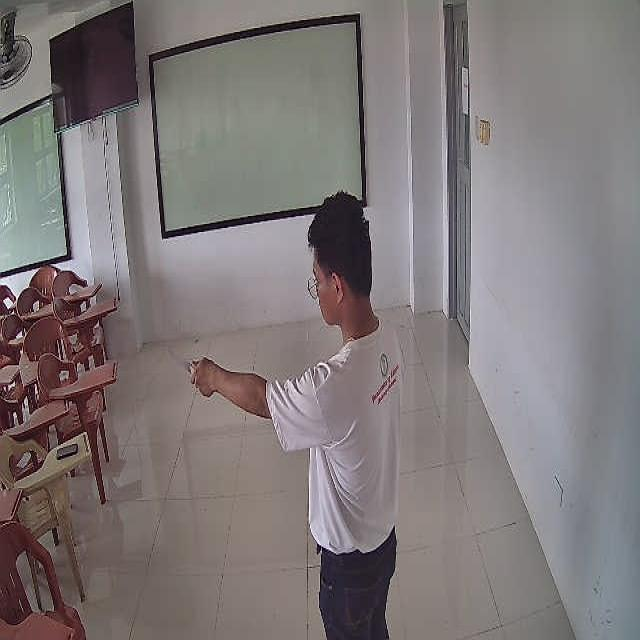knife: (167, 347, 195, 373)
